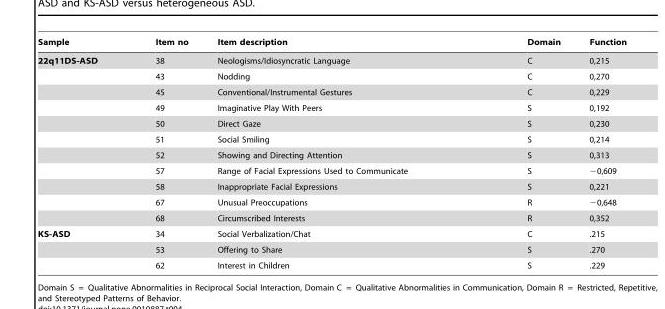table: (37, 37, 625, 269)
table column: (202, 37, 466, 269), (466, 37, 574, 269), (37, 37, 125, 269), (125, 37, 202, 269), (574, 37, 625, 269)
table column header: (37, 37, 625, 51)
table row: (37, 51, 625, 68), (37, 68, 625, 84), (37, 99, 625, 115), (37, 115, 625, 131), (37, 131, 625, 147), (37, 162, 625, 178), (37, 178, 625, 194), (37, 194, 625, 210), (37, 225, 625, 241), (37, 241, 625, 257), (37, 84, 625, 99), (37, 147, 625, 162), (37, 210, 625, 225), (37, 37, 625, 51), (37, 257, 625, 269)
table spanning cell: (37, 51, 125, 225), (37, 225, 125, 269)
